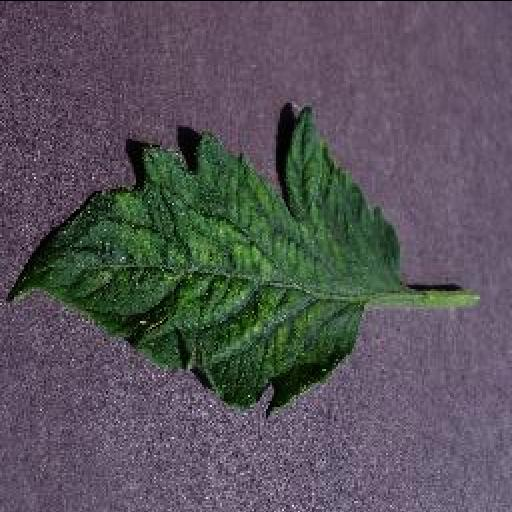Mosaic Virus: (10, 100, 404, 418)
